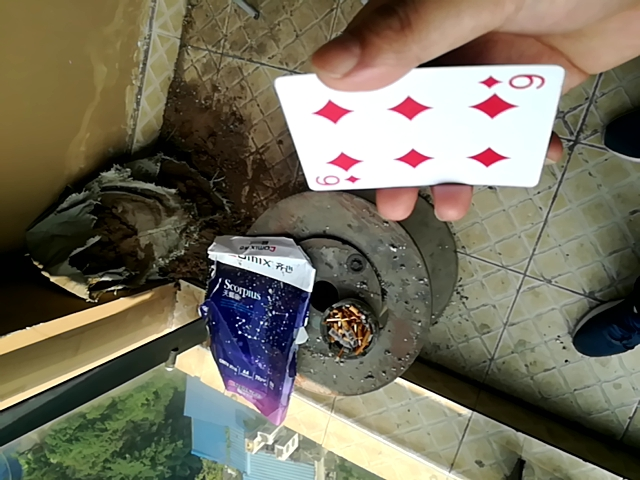fk 6: (266, 65, 565, 193)
